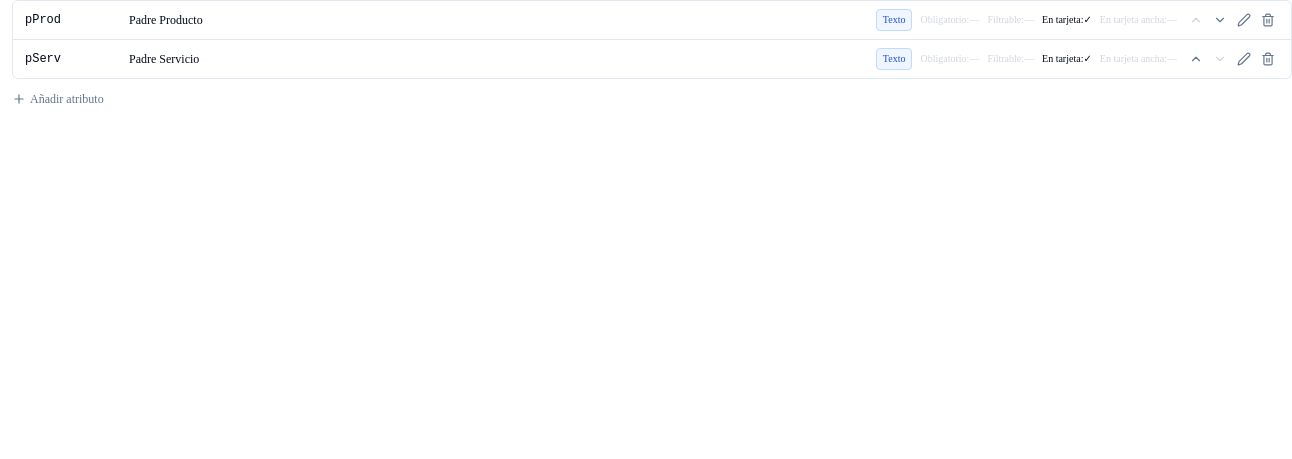
Scenario: AttributeSchemaEditor — impacto en subcategorías (contador, editando el PADRE) › EXCEDER el tope de una hija → marca ⚠ (aviso visual, antes de guardar)
This screenshot has width=1292, height=459.
Click the button with test id "add-attribute-btn".
click(58, 99)  # box 12,91 -> 104,107
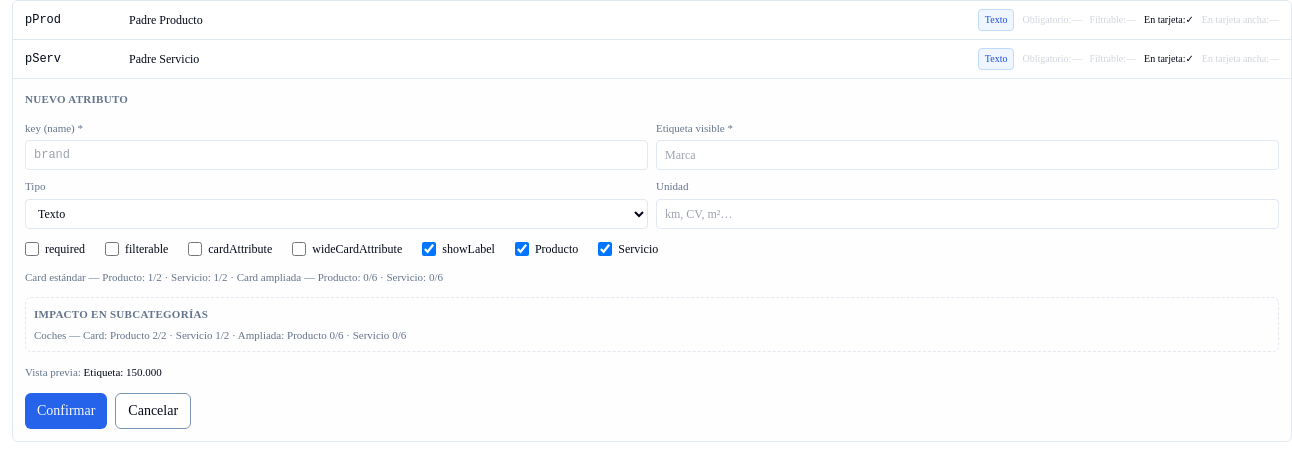
Type "pProd2" into the field with test id "attr-name-input".
click(336, 155); type("pProd2")  # box 25,140 -> 648,170
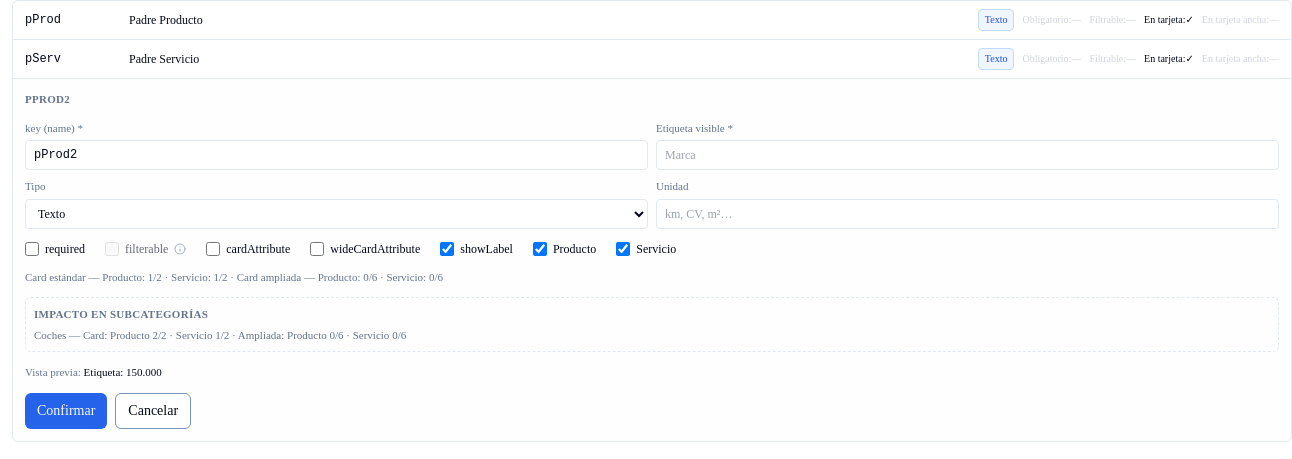
Type "Padre Producto 2" into the field with test id "attr-label-input".
click(968, 155); type("Padre Producto 2")  # box 656,140 -> 1279,170
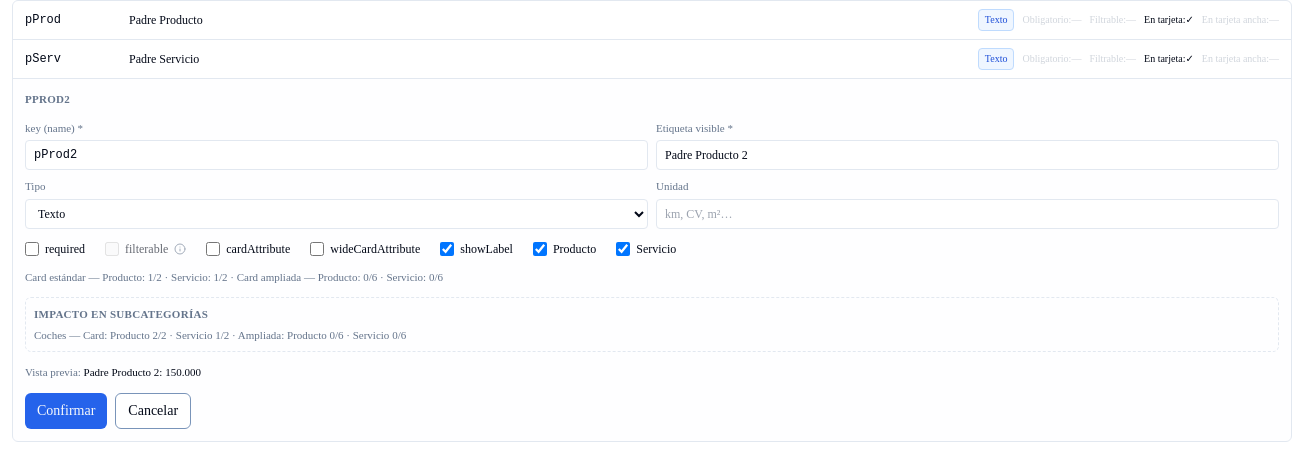
Click the checkbox with test id "applies-to-service-checkbox".
click(623, 248)  # box 616,242 -> 630,256
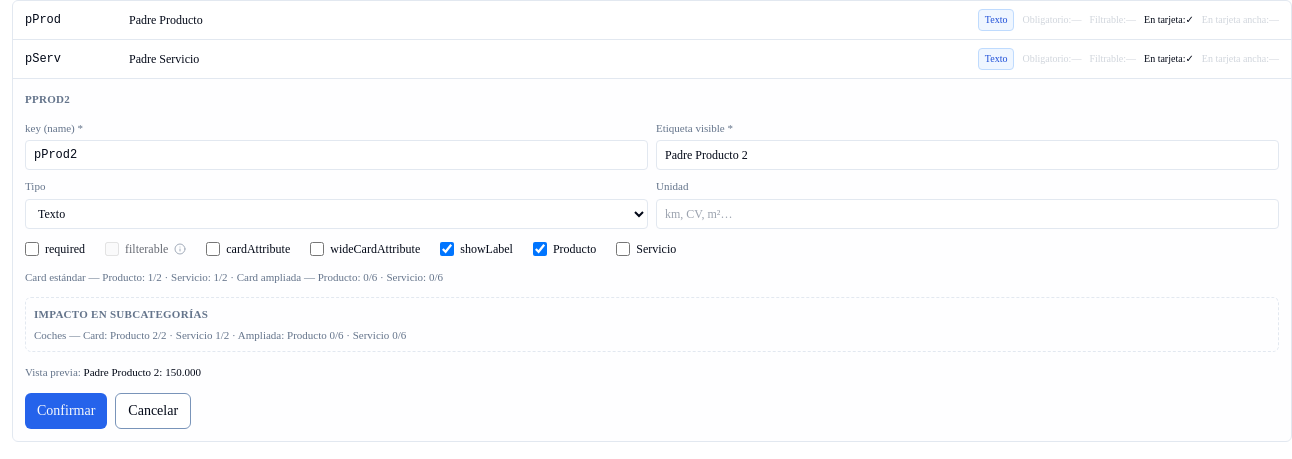
Click the checkbox with test id "card-attribute-checkbox".
click(213, 248)  # box 206,242 -> 220,256
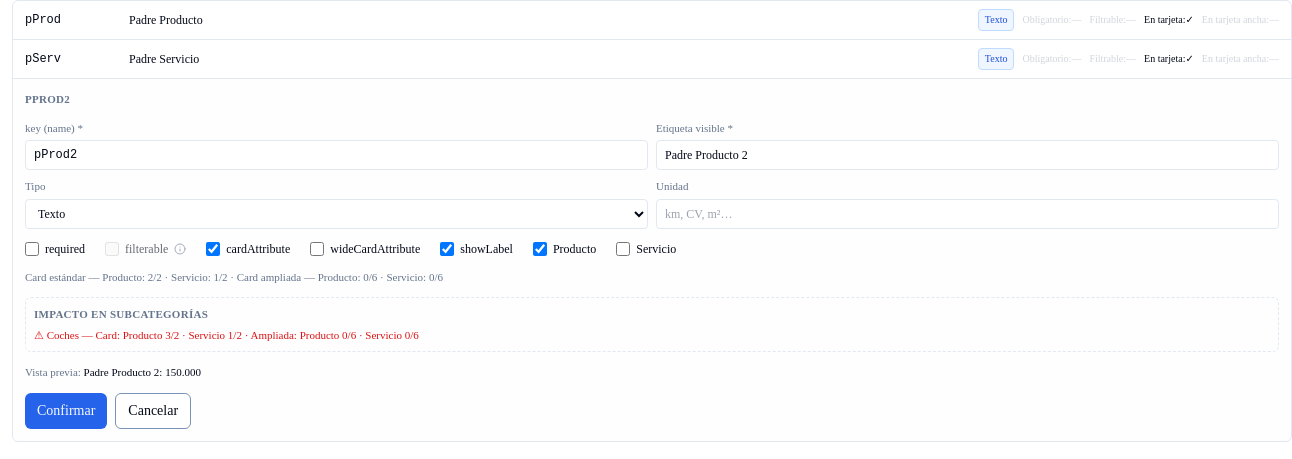
expect the text with test id "child-impact-Coches" shows "⚠": met, box 34,328 -> 47,340
expect the text with test id "child-impact-Coches" shows "Producto 3/2": met, box 34,328 -> 419,340
